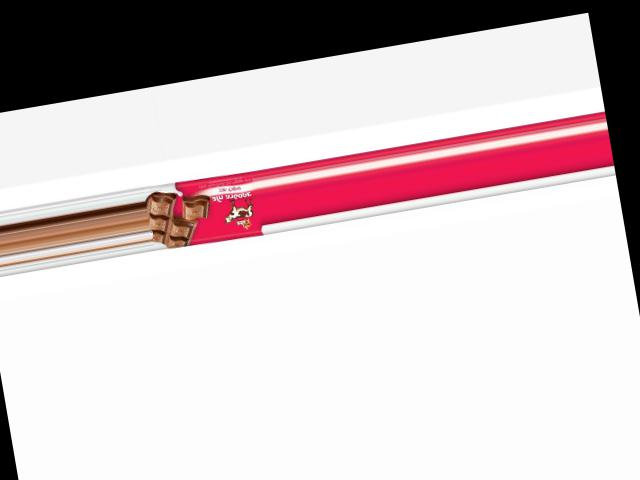chocolate: (144, 169, 264, 252)
